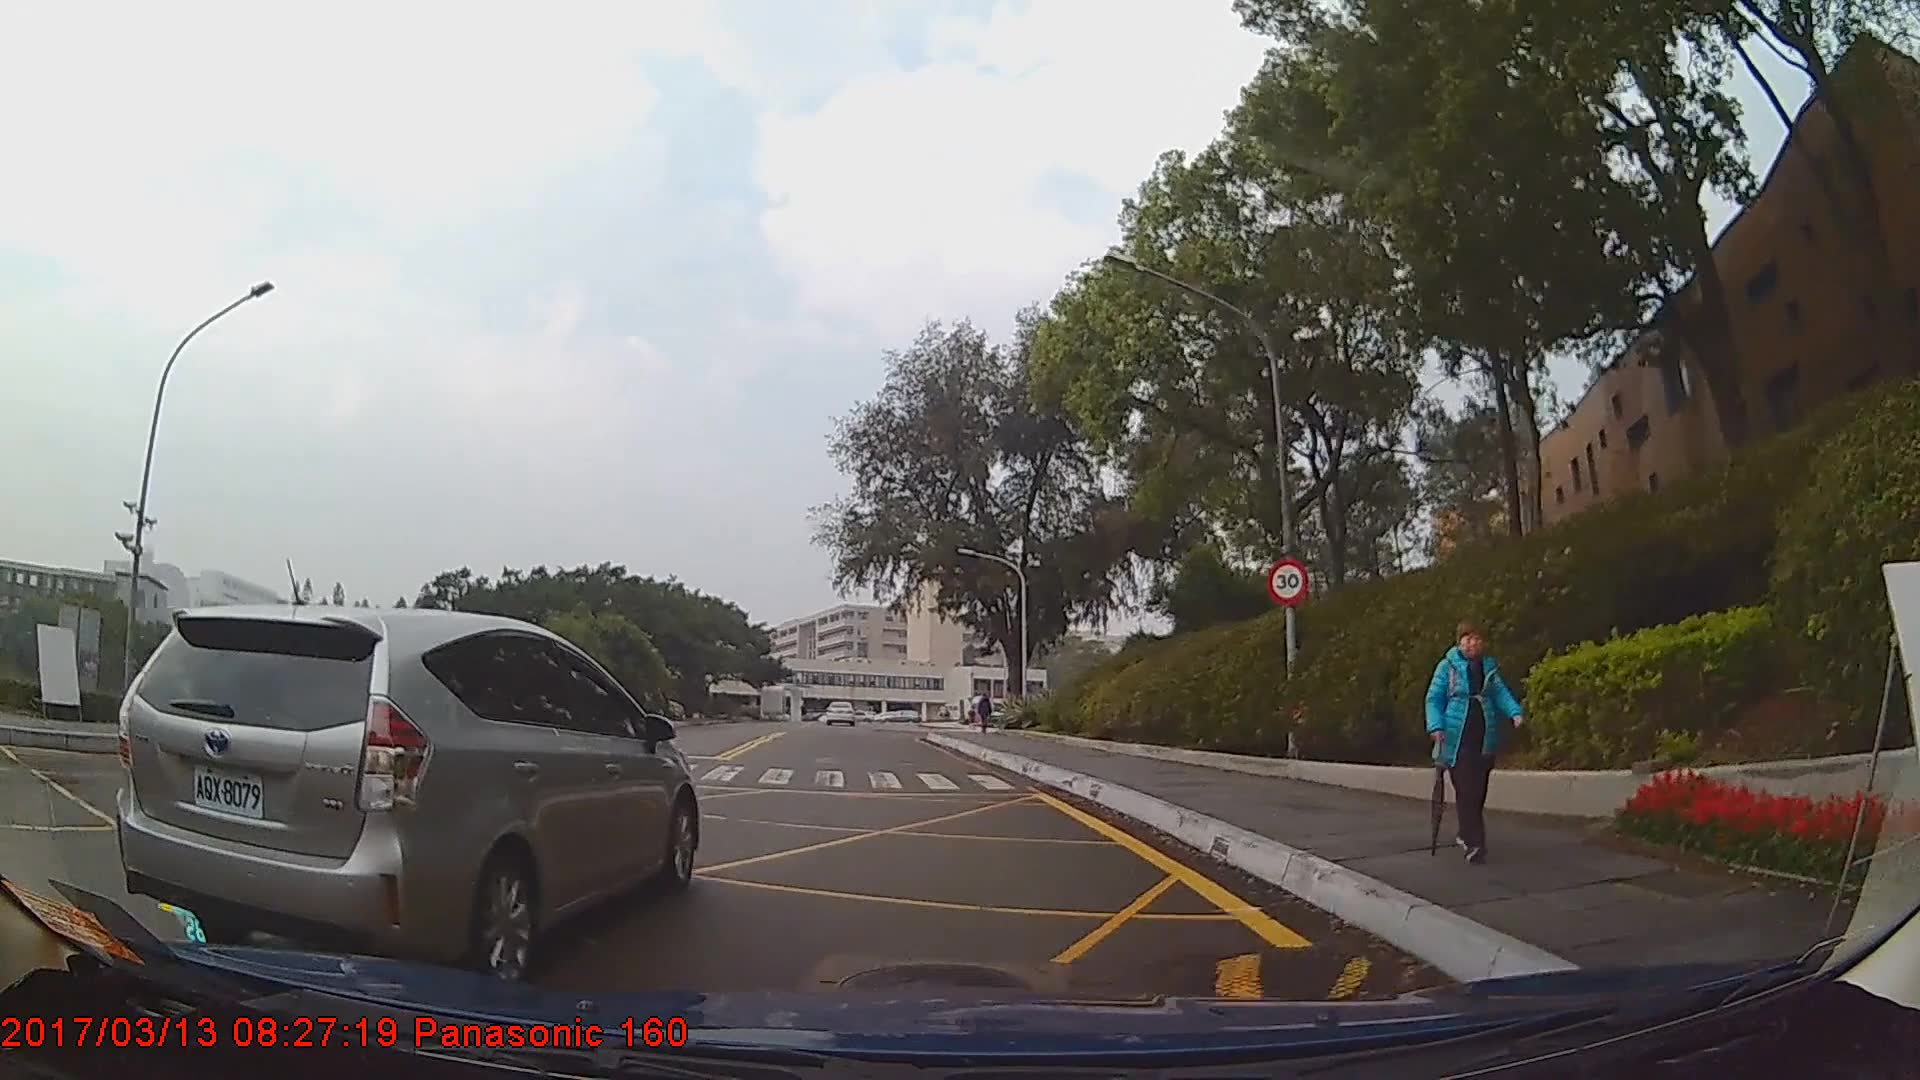pedestrian: (1416, 605, 1537, 876), (978, 694, 998, 736)
vehicle: (117, 608, 700, 986), (822, 699, 855, 726)
